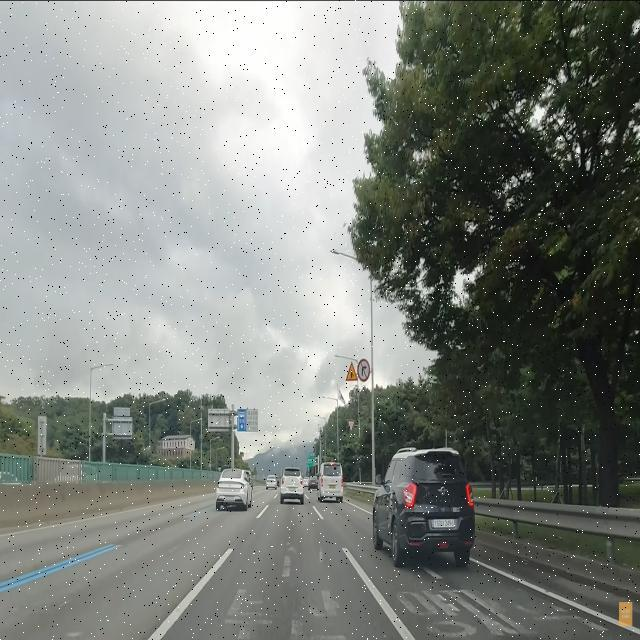forward: (185, 541, 383, 592)
